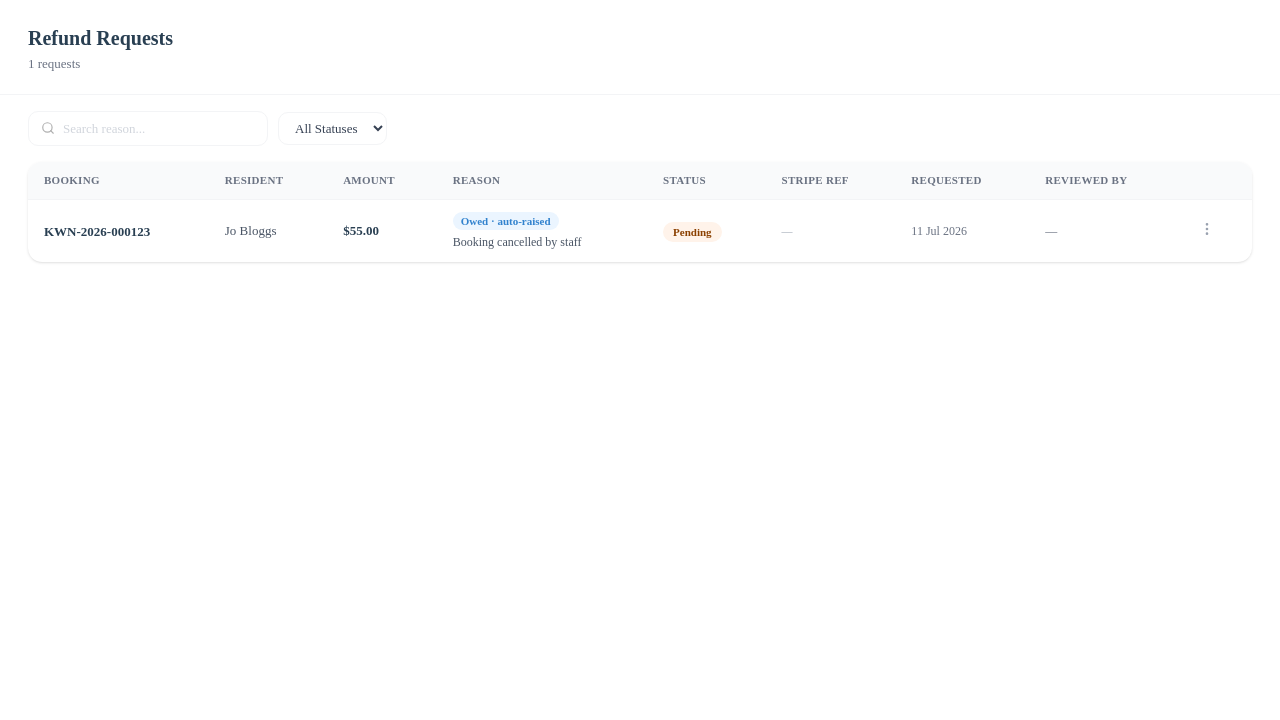
Test: RefundsClient — reject confirm gate › clicking Reject opens the confirm dialog instead of rejecting immediately
The width and height of the screenshot is (1280, 720).
Expected: the text "Owed · auto-raised" is shown, [453,212,558,230]
Click the button named "Open actions menu" at (1207, 229), box [1195,217,1219,241]
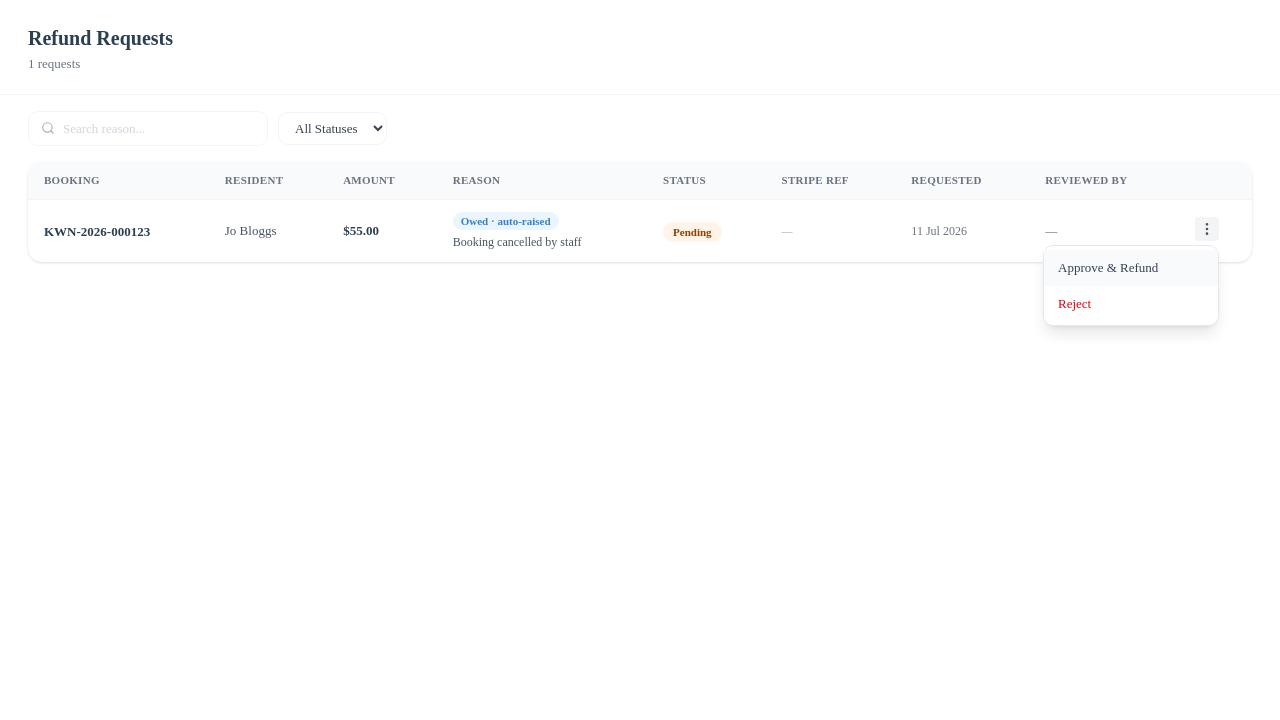
Click the menu item "Reject" at (1075, 303), box [1058,296,1091,310]
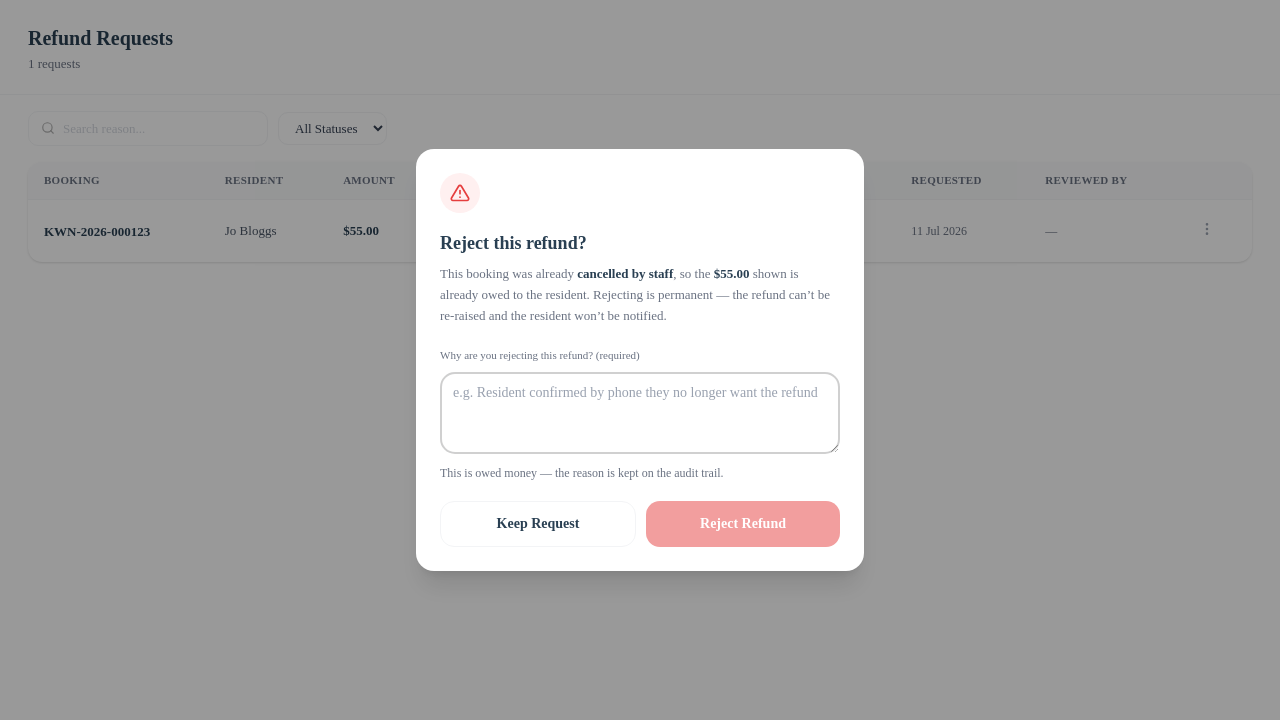
Expected: the heading "Reject this refund?" is shown, [440,233,587,253]
